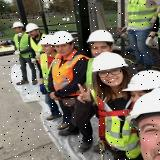Helmet: (124, 91, 160, 123), (122, 70, 160, 92), (92, 51, 128, 73), (49, 30, 74, 45), (86, 30, 114, 42), (37, 34, 62, 46), (24, 23, 40, 33), (10, 21, 25, 29)
Vest: (88, 87, 146, 149), (50, 49, 90, 98), (38, 52, 62, 93), (12, 33, 32, 59), (27, 35, 45, 62)
